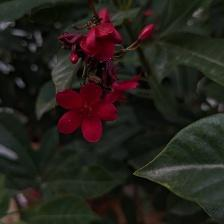jatropha: (56, 81, 119, 145)
